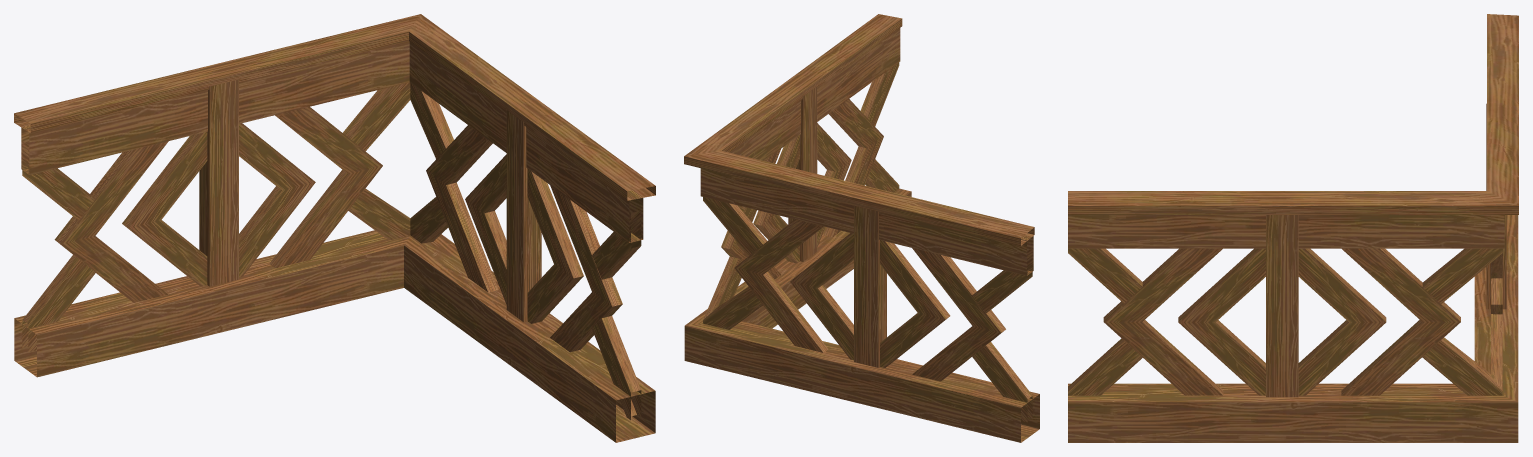
File: balcony_cross_corner.glb
3 views of the same model, side by side, from view 1: azimuth 30°, elevation 25°; view 2: azimuth 150°, elevation 25°; view 3: azimuth 270°, elevation 25° (orthographic). The views are drawn at different scales.
Size of the model in its own units: 2.1 by 1.23 by 2.1.
1 material, 1 textured.
